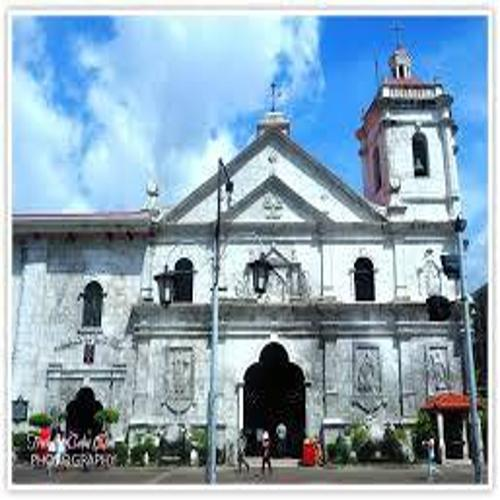Sto. Nino Basilica Church: (146, 29, 473, 461)
